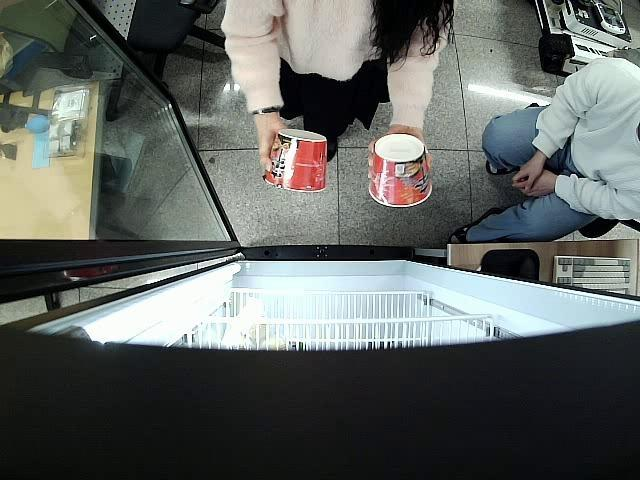01_ShinRamen_L: (366, 136, 433, 208), (264, 128, 328, 192)
